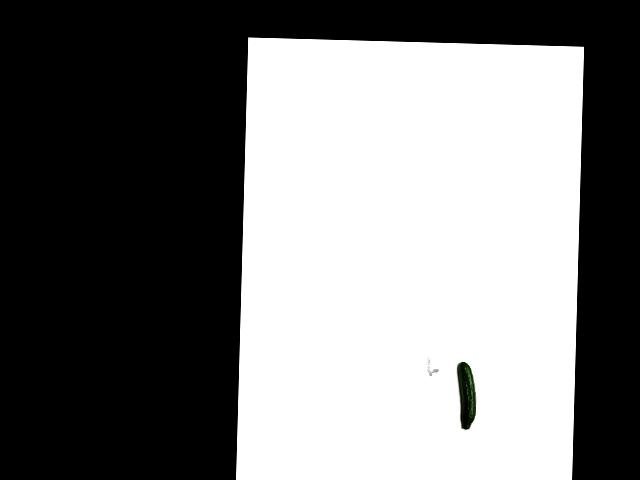cucumber: (456, 361, 476, 429)
